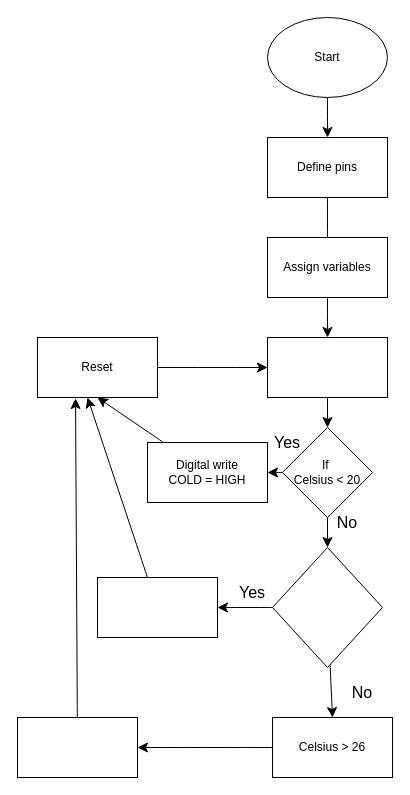
Image size: 410x795. Some labels were removed from this diagram. The shapes that lost their labels are listed below. From the top down, each one's centre as x and y in pixels, then its label:
(x=327, y=367): Read temp sensor and convert to Celsius
(x=157, y=607): Digital write NORMAL = HIGH
(x=327, y=607): If 26=>Celsius>20
(x=77, y=747): Digital write HOT = HIGH
